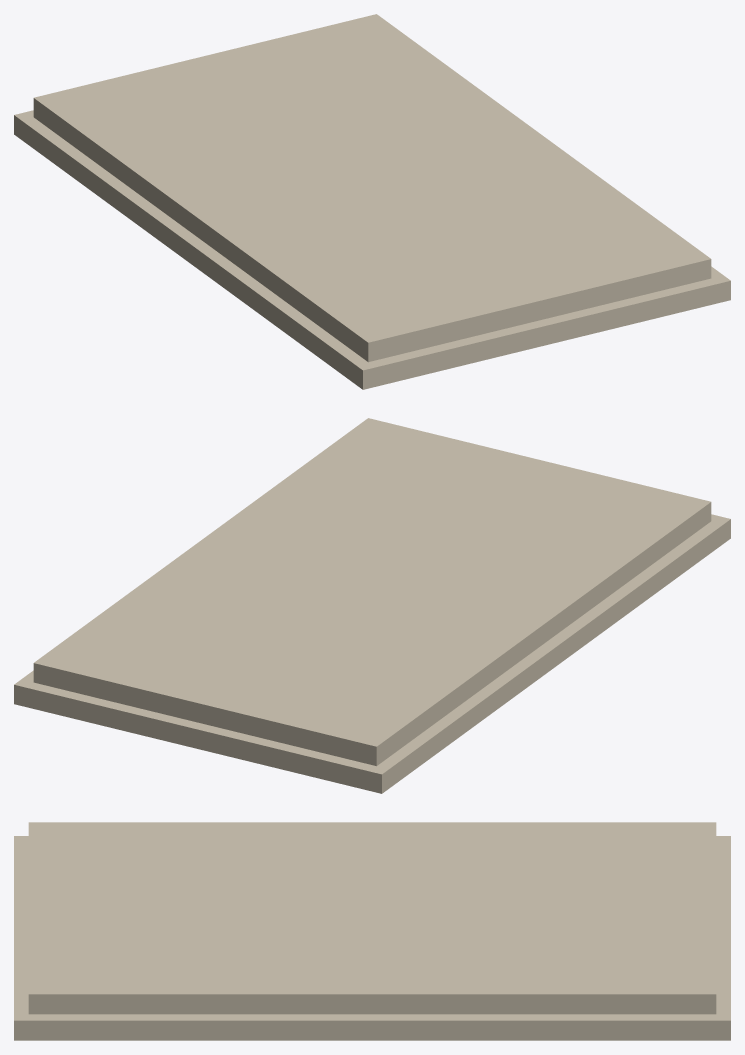
The model's file is chavin_edificio_b_foundation_lod0.glb.
The picture shows the model from 3 angles, top to bottom: view 1: azimuth 30°, elevation 25°; view 2: azimuth 150°, elevation 25°; view 3: azimuth 270°, elevation 25°; orthographic projection. The views are drawn at different scales.
Parts seen in each view (by area): view 1: chavin_edificio_b_foundation; view 2: chavin_edificio_b_foundation; view 3: chavin_edificio_b_foundation.
Part boxes in pixels (x1,y1,x2,y2): chavin_edificio_b_foundation: [14, 14, 730, 389]; chavin_edificio_b_foundation: [14, 418, 730, 793]; chavin_edificio_b_foundation: [14, 822, 730, 1040].
Bounding box in the file's own units: 80.9 × 8.18 × 133.
